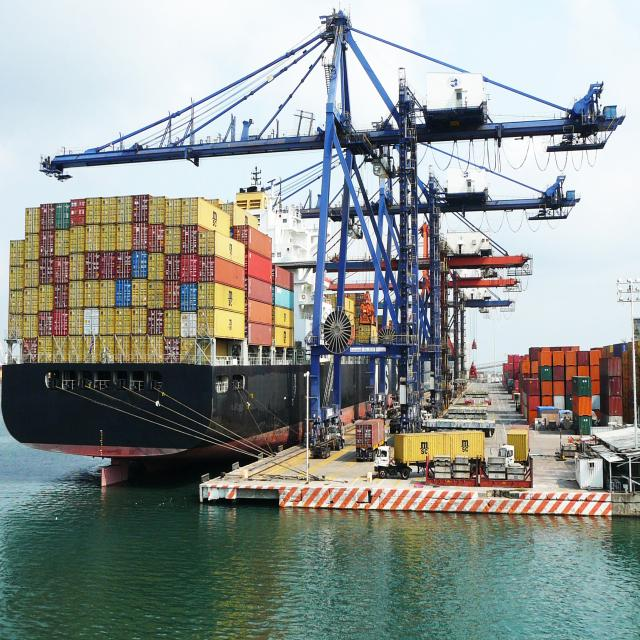cargoship: (2, 160, 366, 472)
